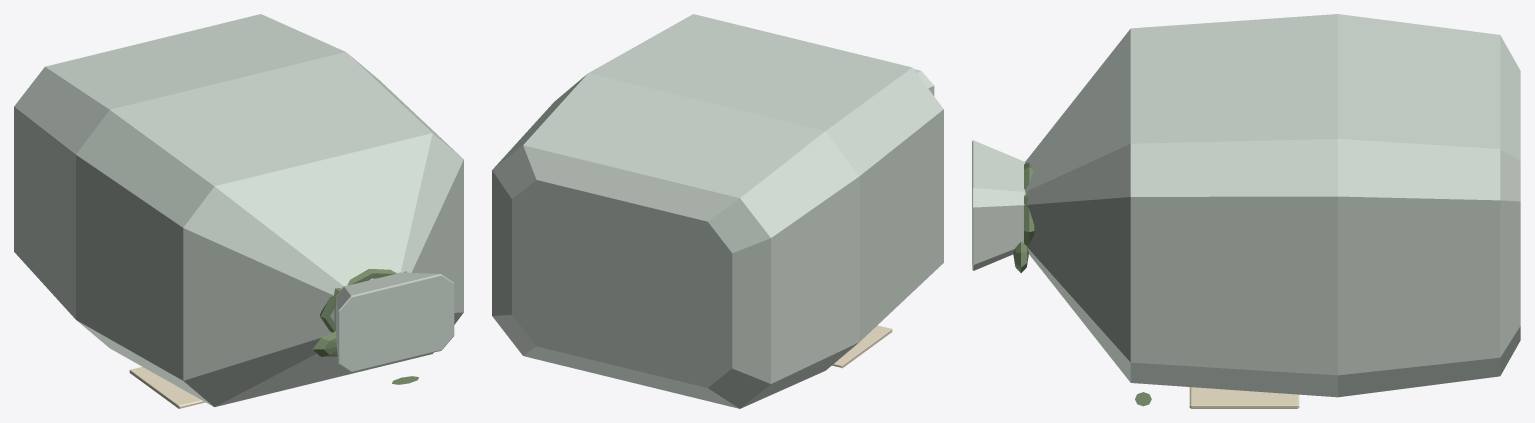
File: mozzarella.glb
3 renders of one model, left to right at view 1: azimuth 30°, elevation 25°; view 2: azimuth 150°, elevation 25°; view 3: azimuth 270°, elevation 25°, orthographic. The views are drawn at different scales.
Parts seen in each view (by area): view 1: mozzarella; view 2: mozzarella; view 3: mozzarella.
Part boxes in pixels (x1,y1,x2,y2): mozzarella: (14,14,463,408); mozzarella: (492,14,943,408); mozzarella: (972,14,1520,408).
Size of the model in its own units: 0.0936 by 0.0751 by 0.135.
